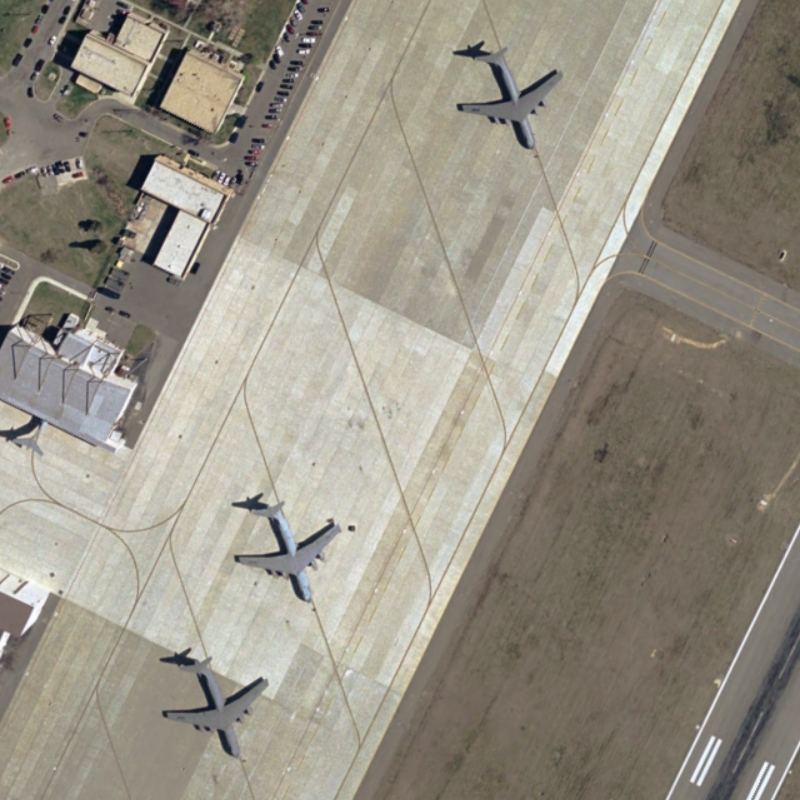A4: (452, 41, 568, 155), (230, 496, 343, 607), (158, 653, 271, 762)
